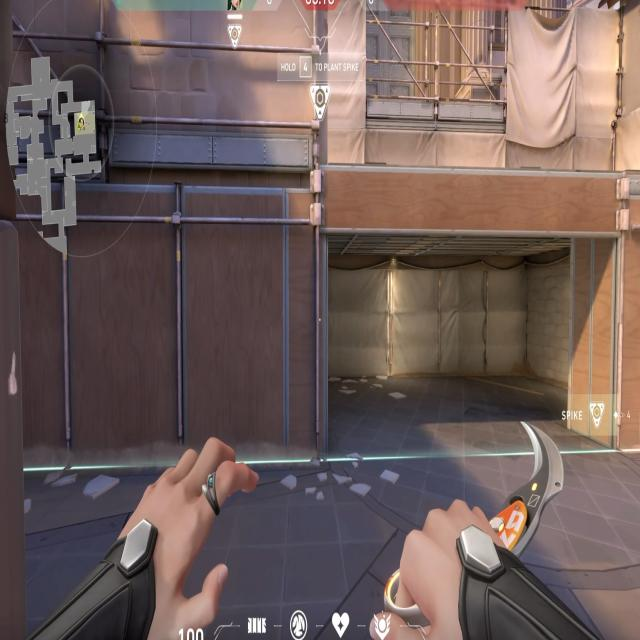A_Hell: (305, 142, 634, 474)
